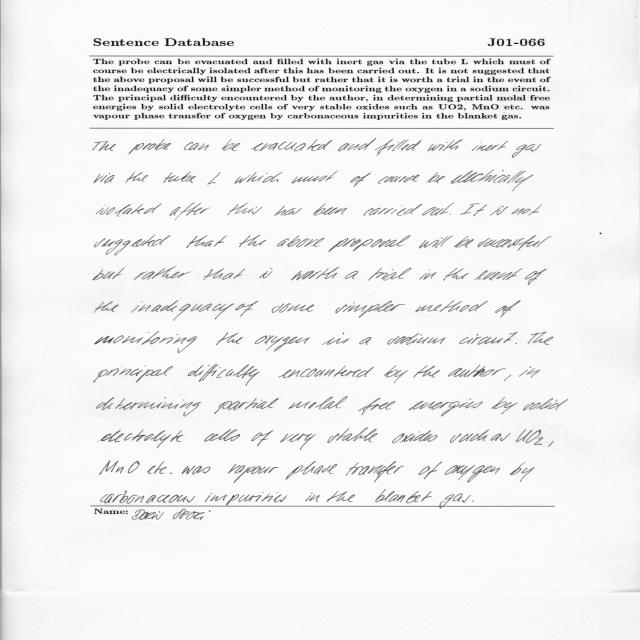word: (101, 491, 287, 506), (478, 233, 602, 251), (95, 332, 197, 353), (131, 301, 235, 321), (97, 397, 201, 416), (451, 170, 534, 191), (95, 234, 171, 256), (305, 489, 421, 503), (188, 364, 260, 386), (102, 429, 184, 448), (328, 235, 411, 252), (408, 399, 483, 417), (94, 366, 173, 383), (335, 300, 405, 318), (346, 461, 404, 482), (278, 366, 374, 378), (251, 139, 333, 152), (214, 398, 279, 414), (445, 465, 500, 483), (228, 464, 279, 483), (286, 461, 337, 480), (255, 335, 310, 352), (415, 300, 488, 312), (97, 204, 162, 217), (375, 139, 422, 156), (288, 397, 348, 410), (459, 332, 518, 345), (327, 428, 378, 443), (134, 267, 192, 280), (448, 365, 506, 378), (364, 204, 423, 216), (387, 333, 446, 345), (169, 203, 210, 220), (128, 139, 171, 155), (358, 398, 395, 415), (291, 267, 339, 280), (280, 433, 316, 450), (291, 171, 338, 184), (474, 269, 523, 281), (523, 398, 568, 411), (392, 430, 437, 443), (235, 172, 283, 184), (277, 236, 325, 248), (368, 268, 412, 281), (100, 461, 140, 475), (450, 429, 489, 443), (187, 235, 227, 248), (510, 462, 535, 482), (338, 139, 376, 152), (495, 300, 521, 318), (204, 429, 240, 442), (491, 397, 518, 414), (313, 203, 347, 216), (419, 236, 453, 249), (384, 366, 408, 384), (516, 429, 543, 445), (419, 462, 443, 480), (272, 303, 315, 313), (428, 139, 463, 151), (512, 144, 542, 158), (228, 203, 263, 215), (422, 203, 454, 216), (93, 268, 125, 281), (163, 171, 196, 183), (525, 269, 547, 286), (203, 268, 234, 280), (378, 175, 419, 184), (235, 301, 258, 317), (251, 431, 274, 447), (443, 493, 471, 506), (472, 141, 508, 151), (460, 203, 487, 216), (216, 332, 243, 345), (511, 205, 542, 216), (443, 268, 469, 281), (528, 332, 554, 345), (147, 462, 172, 475), (239, 235, 266, 247), (322, 333, 349, 345), (413, 366, 440, 378), (350, 173, 371, 187), (274, 206, 302, 216), (94, 302, 119, 313), (182, 466, 210, 475), (126, 172, 148, 183), (454, 236, 474, 248), (519, 367, 540, 378), (93, 141, 116, 151), (222, 139, 241, 151), (184, 142, 209, 151), (94, 173, 115, 183), (427, 172, 445, 183), (420, 269, 437, 280), (207, 172, 221, 185), (491, 206, 509, 216), (491, 433, 511, 441), (259, 268, 273, 279), (233, 268, 245, 279), (421, 491, 432, 502), (345, 271, 358, 279), (359, 337, 372, 345), (504, 374, 511, 381), (548, 441, 554, 447), (439, 501, 445, 506), (472, 500, 474, 502), (449, 214, 451, 215), (515, 343, 517, 344)
